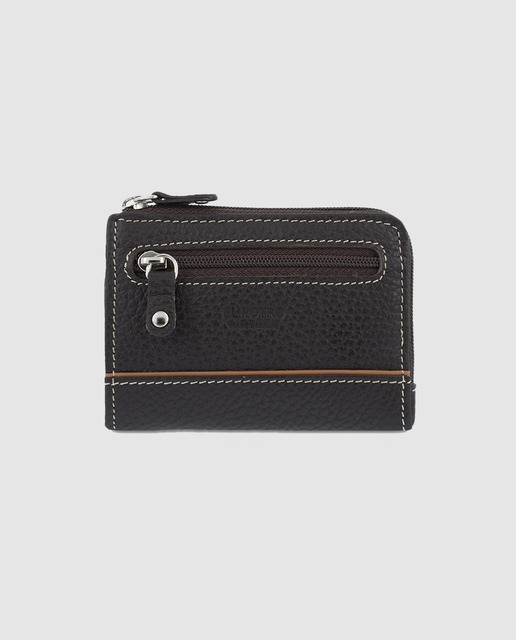monedero: (103, 191, 416, 434)
